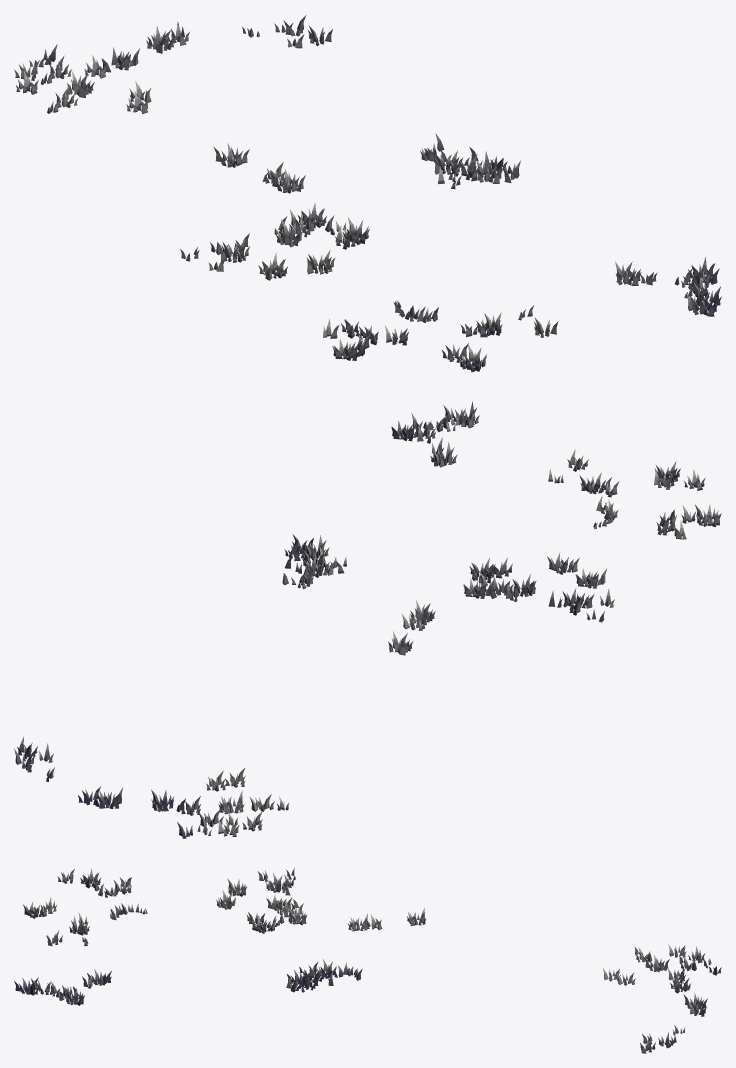
Rendered from Plant_01.FBX.
3 renders of one model, top to bottom at view 1: azimuth 30°, elevation 25°; view 2: azimuth 150°, elevation 25°; view 3: azimuth 270°, elevation 25°, orthographic. The views are drawn at different scales.
Visible parts, largest first — view 1: Plant_01; view 2: Plant_01; view 3: Plant_01.
Part boxes in pixels (x1=…): Plant_01: x1=14, y1=15, x2=721, y2=372; Plant_01: x1=14, y1=401, x2=721, y2=838; Plant_01: x1=14, y1=867, x2=721, y2=1053.
Bounding box in the file's own units: 18.89 × 4.23 × 40.87.
